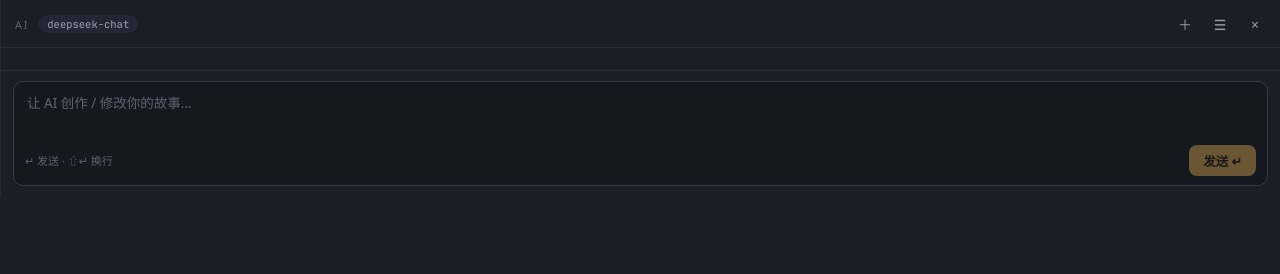
Test: AiPanel › 对话历史：空列表显示占位文案
Click the button named "对话历史" at (1220, 24), box [1207,11,1233,37]
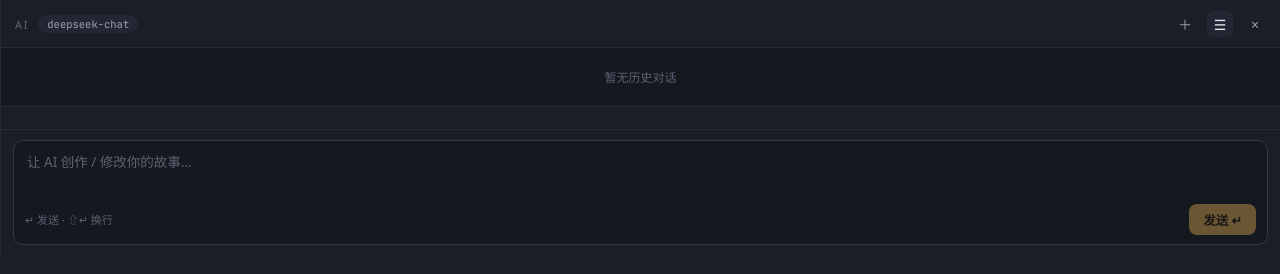
Check: the text "暂无历史对话" is shown, box [604,69,676,86]
